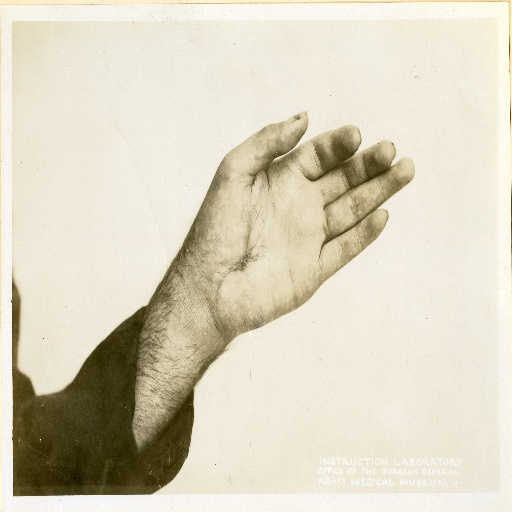hand: (22, 103, 401, 471)
